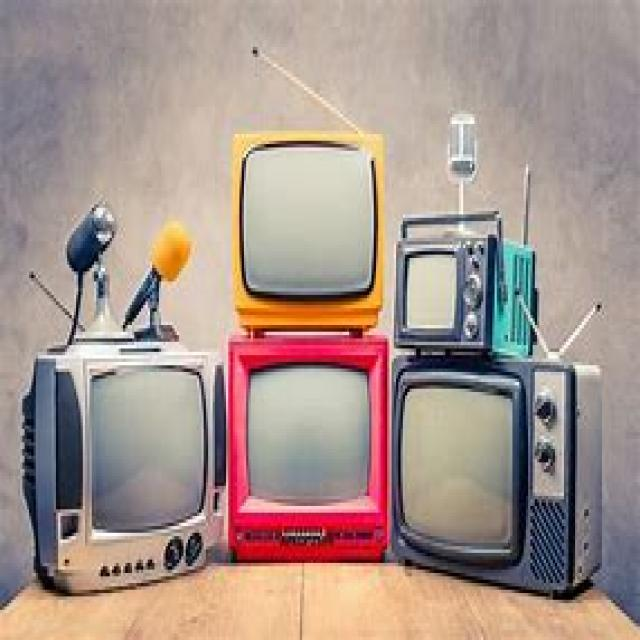tv: (18, 339, 226, 593), (389, 352, 602, 596), (224, 332, 389, 563), (230, 127, 385, 332)
